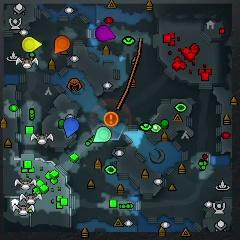Other: (104, 111, 118, 127)
p1: (64, 118, 79, 137)
p2: (94, 127, 111, 142)
p3: (95, 26, 115, 40)
p4: (21, 36, 43, 51)
p5: (54, 36, 69, 55)
